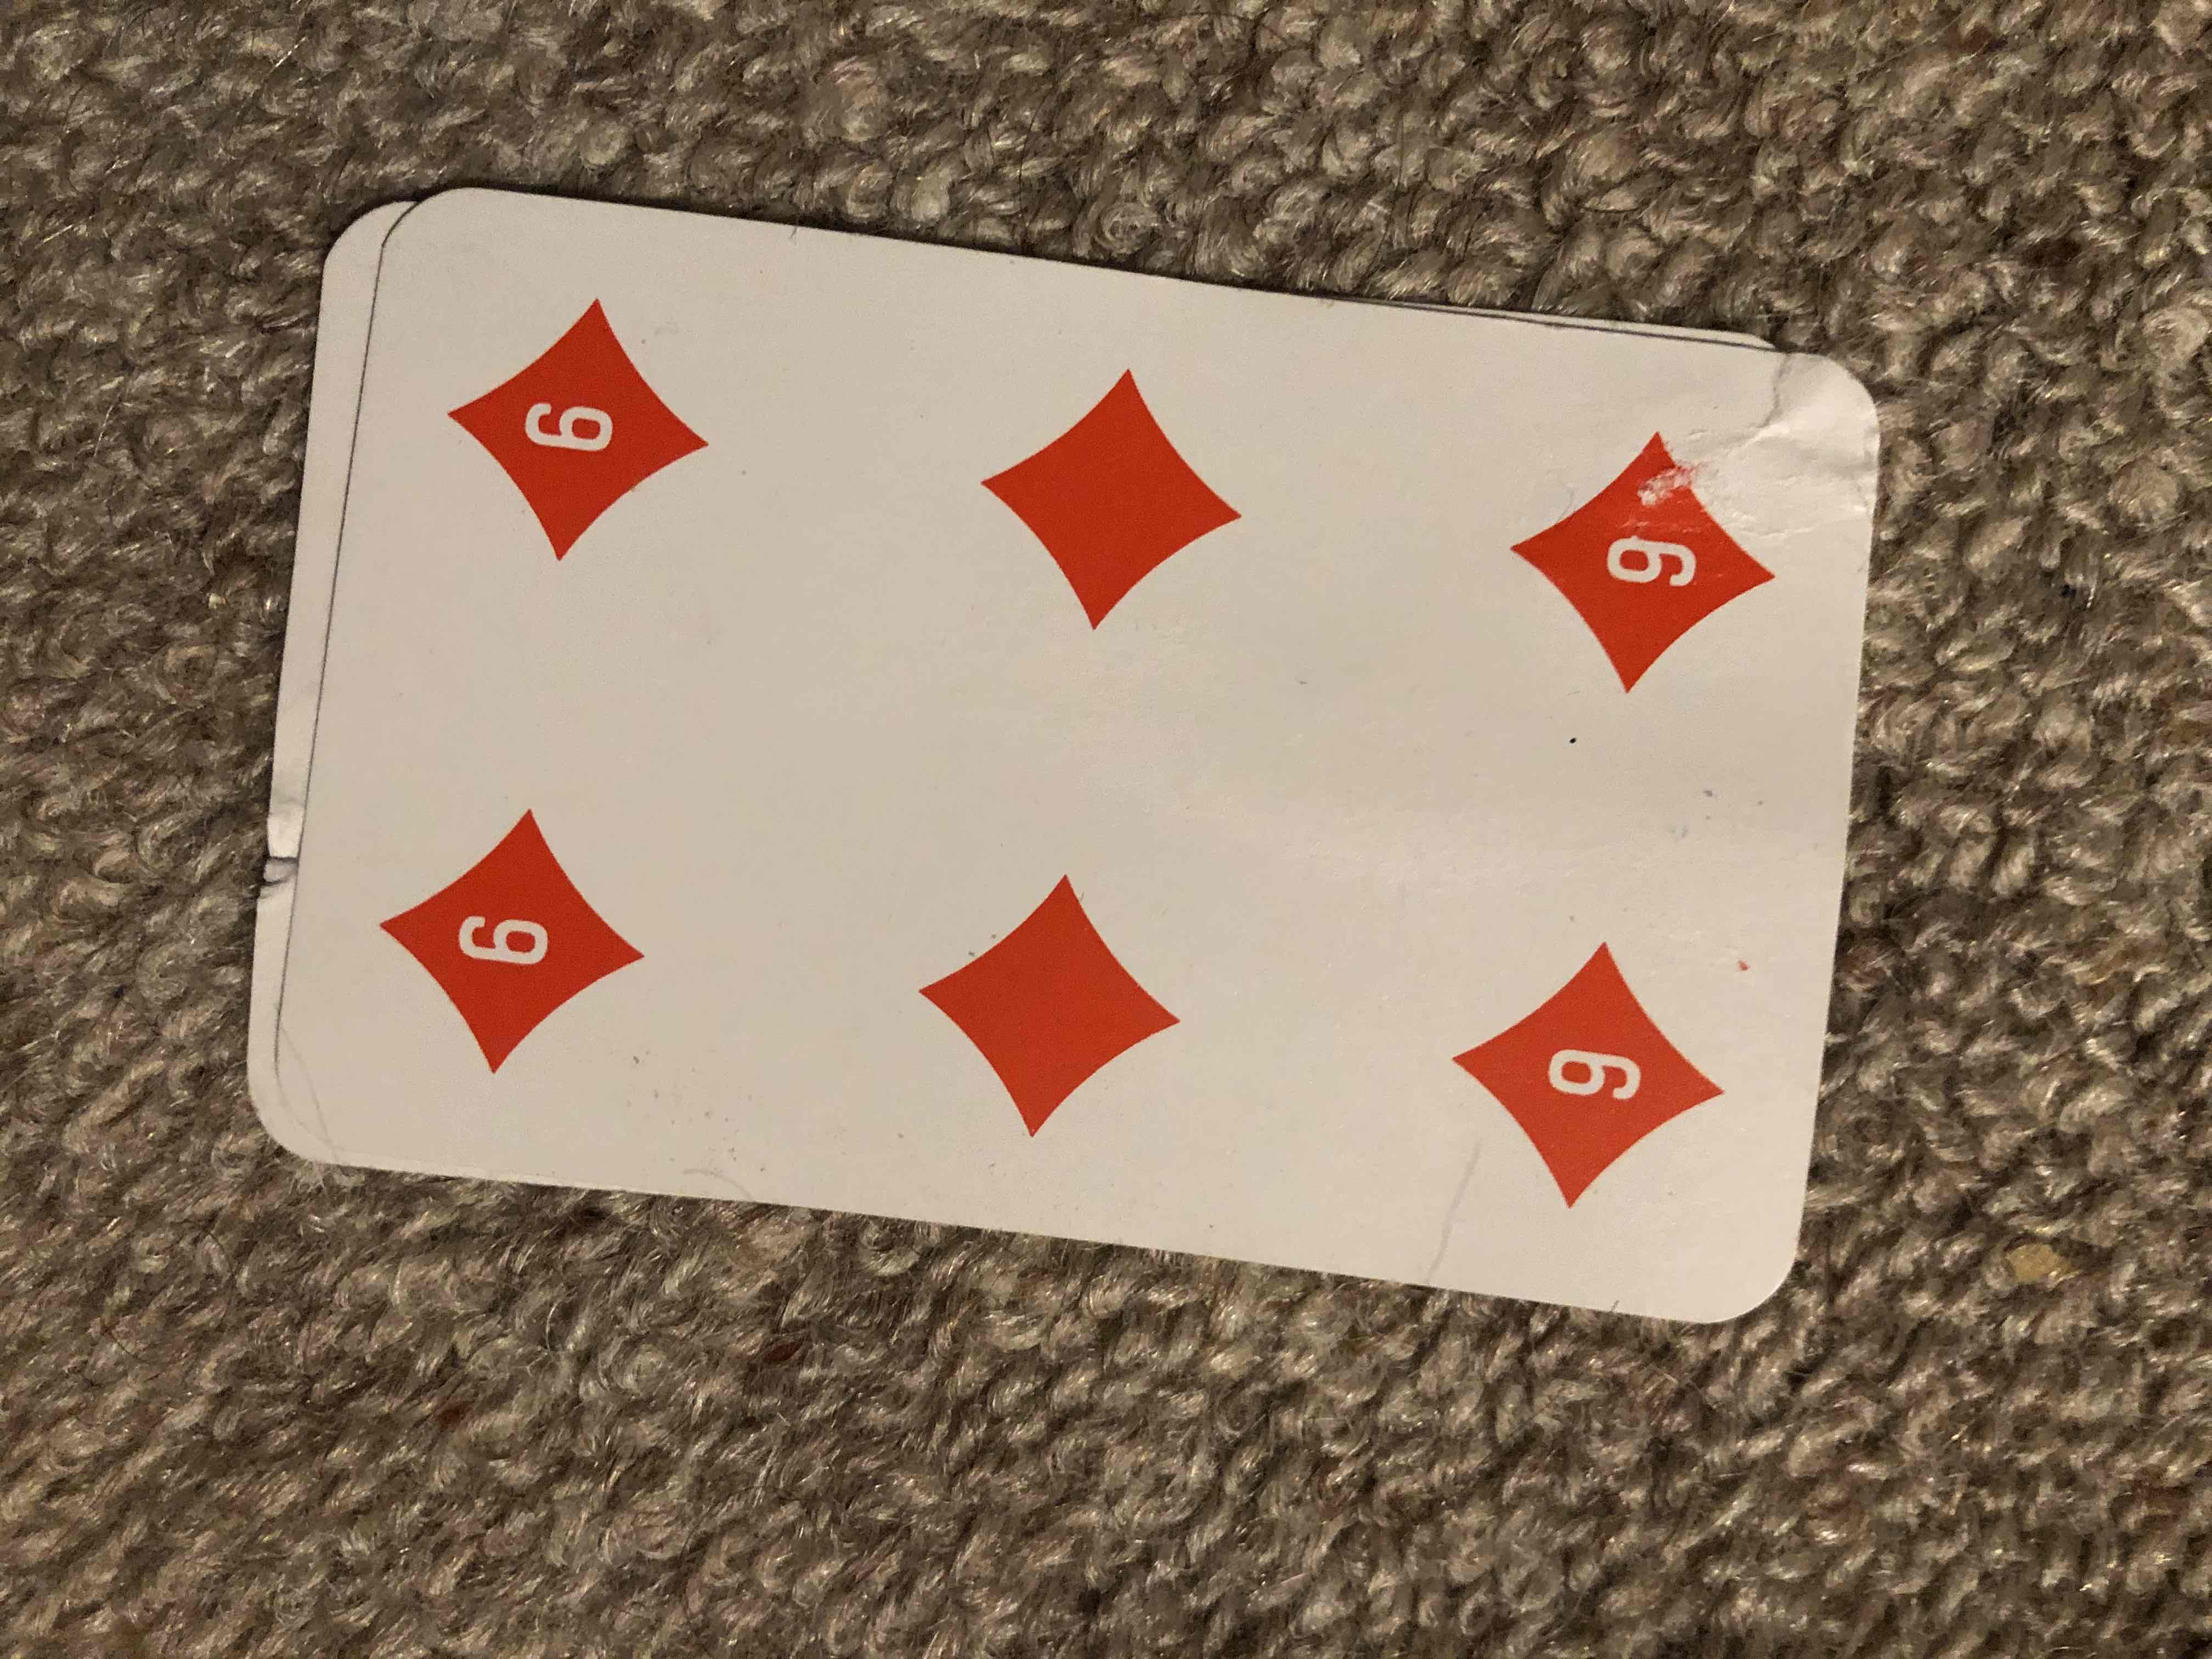diamond6: (343, 159, 1804, 1291)
